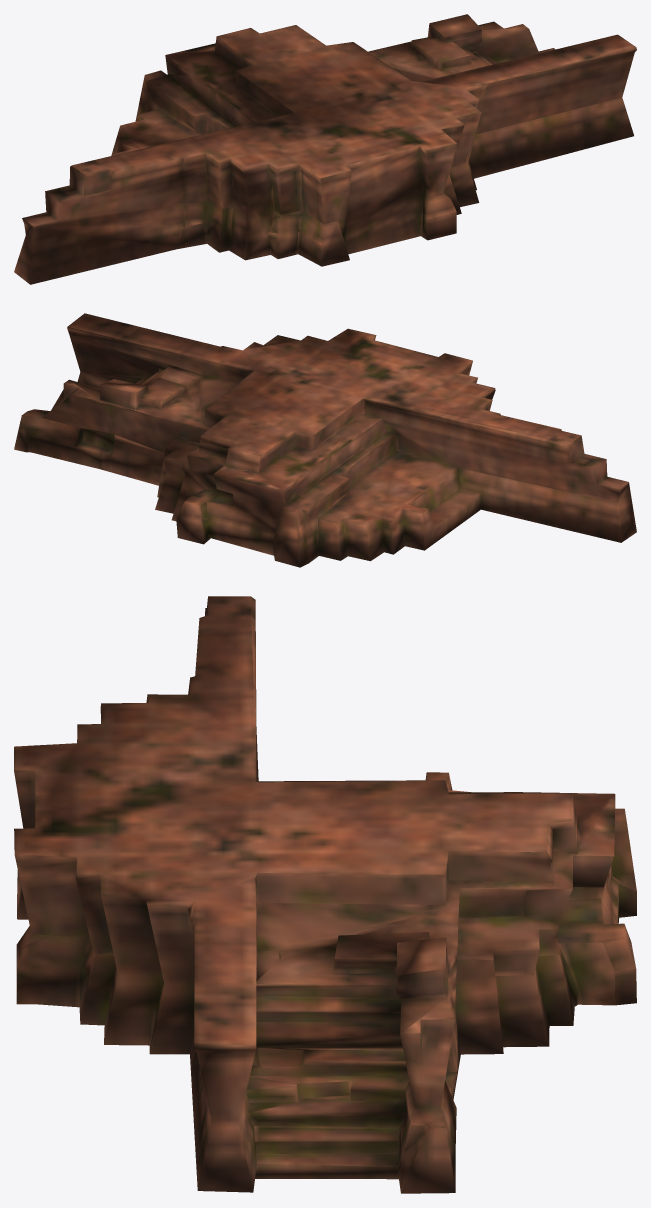
Rendered from ruinancienttemple.glb.
3 renders of one model, top to bottom at view 1: azimuth 30°, elevation 25°; view 2: azimuth 150°, elevation 25°; view 3: azimuth 270°, elevation 25°, orthographic. The views are drawn at different scales.
Parts seen in each view (by area): view 1: Object_2; view 2: Object_2; view 3: Object_2.
Part boxes in pixels (bbox=[...]): Object_2: bbox=[14, 14, 636, 284]; Object_2: bbox=[14, 313, 636, 567]; Object_2: bbox=[14, 596, 636, 1193].
Bounding box in the file's own units: 10.41 × 1.55 × 5.6.
Materials: 1 (1 with a texture image).
